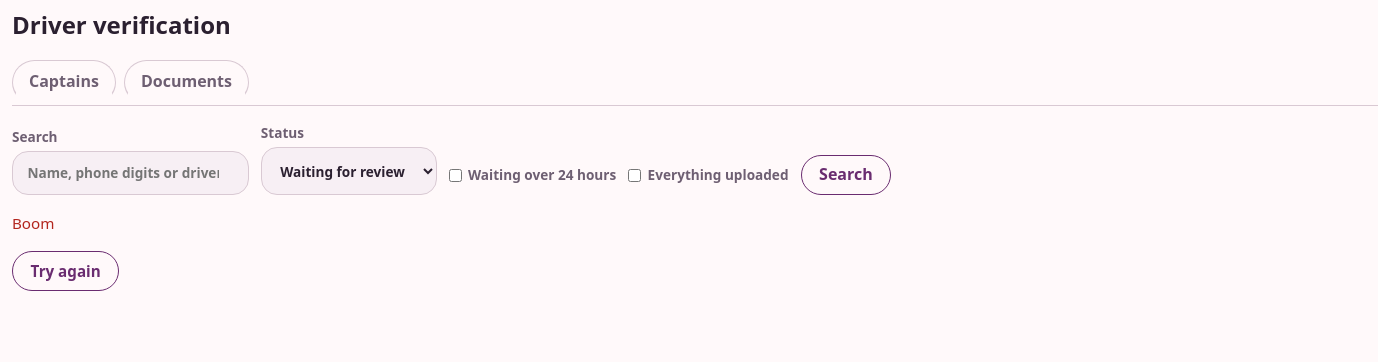
Test: DriverVerificationQueue › shows the error with a retry that loads again
Expected: the message "Boom Try again" is shown, [12, 213, 119, 291]
Click the button "Try again" at (66, 271), box [12, 251, 119, 291]
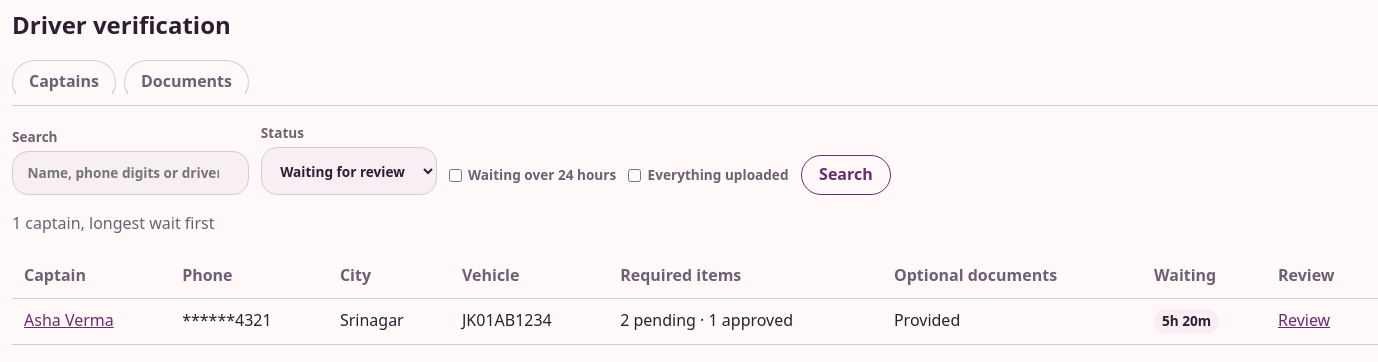
Expected: the link "Asha Verma" is shown, [24, 309, 114, 331]
